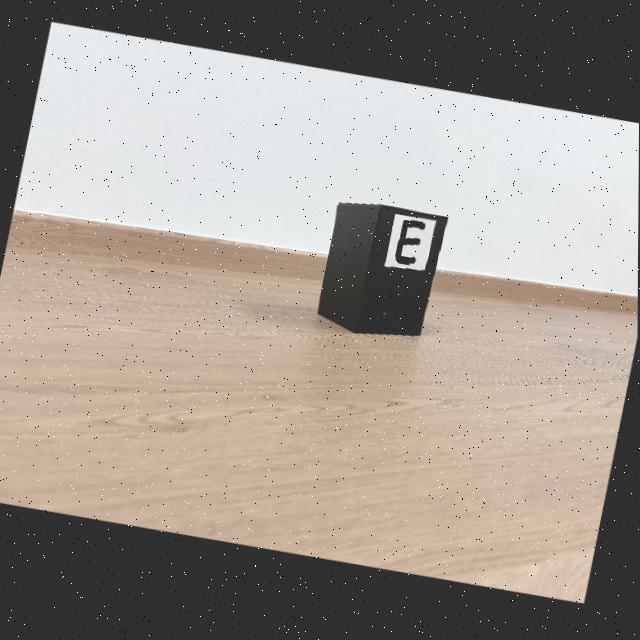E: (395, 222, 426, 267)
